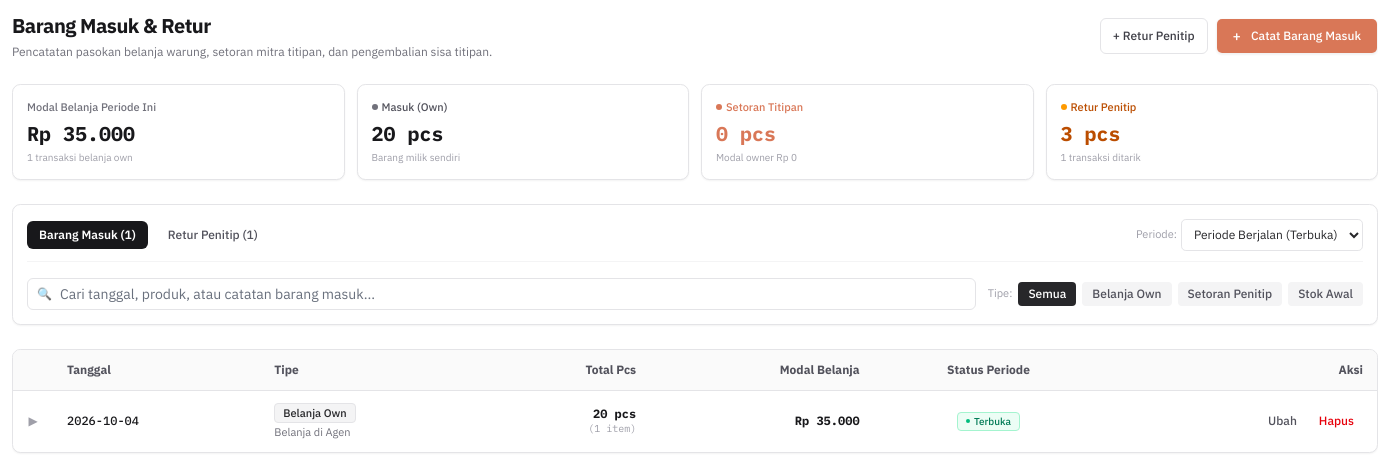
Barang Masuk & Retur Frontend › BarangMasukPage › switches to Retur Penitip tab and shows return records
Expected: the heading "Barang Masuk & Retur" is shown, [12,12,211,39]
Click the button "Retur Penitip (1)": (213, 234) [156,220,270,248]
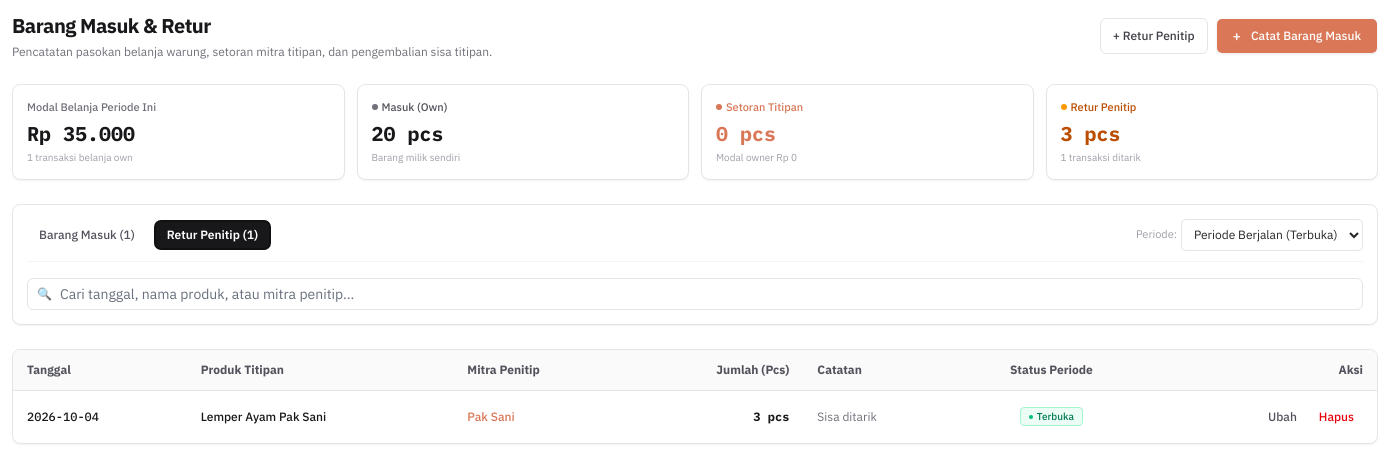
Expected: the text "3 pcs" is shown, [1060,120,1120,146]
Expected: the text "Lemper Ayam Pak Sani" is shown, [187,390,453,442]
Expected: the text "Pak Sani" is shown, [453,390,628,442]
